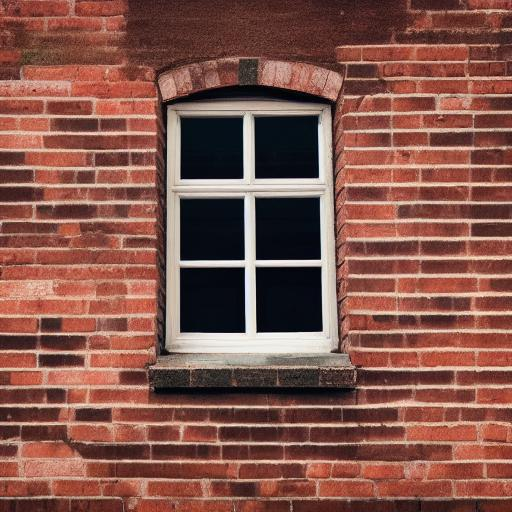Window: (144, 55, 359, 392)
